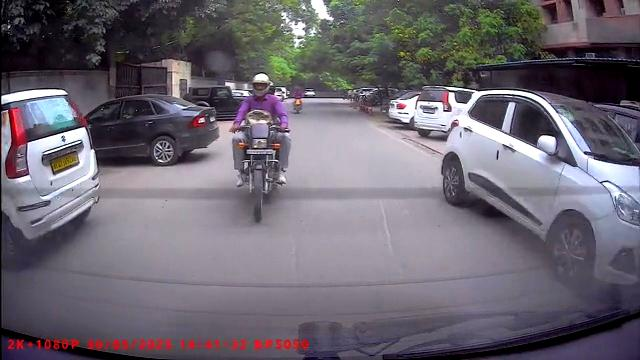motorcycle_with_helmet: (230, 72, 289, 225)
